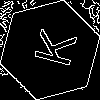K: (25, 25, 77, 69)
